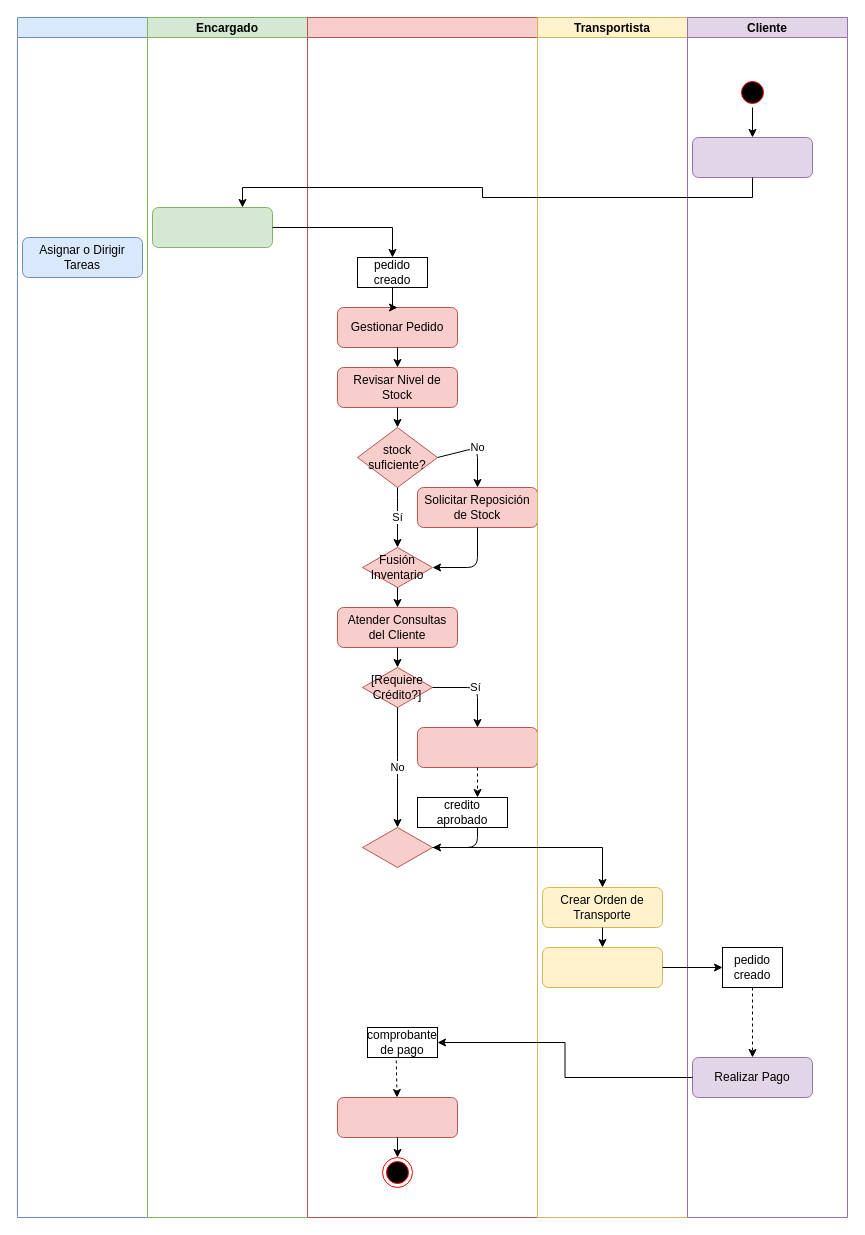
Image size: 865x1235. Some labels were removed from this diagram. The box of each missing label's shape, as (x1, y1, x2, y2) in pixels:
Administrador: (306, 16, 538, 1218)
Asignar Crédito: (416, 726, 538, 768)
Confirmar Pago: (336, 1096, 458, 1138)
Enviar Pedido: (542, 946, 662, 988)
Fusión Crédito: (362, 826, 432, 868)
Jefe: (16, 16, 148, 1218)
Registrar Solicitud como Pedido: (152, 206, 272, 248)
Solicitar Productos: (692, 136, 812, 178)
